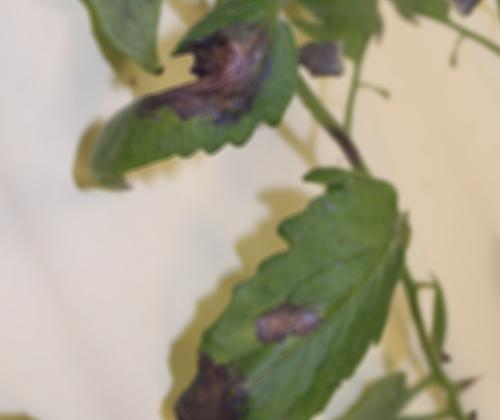Tomato leaf late blight: (88, 131, 500, 420), (24, 0, 342, 218)
